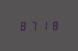eight: (18, 20, 27, 31), (48, 19, 57, 30)
one: (38, 20, 47, 30)
seven: (28, 20, 37, 31)
